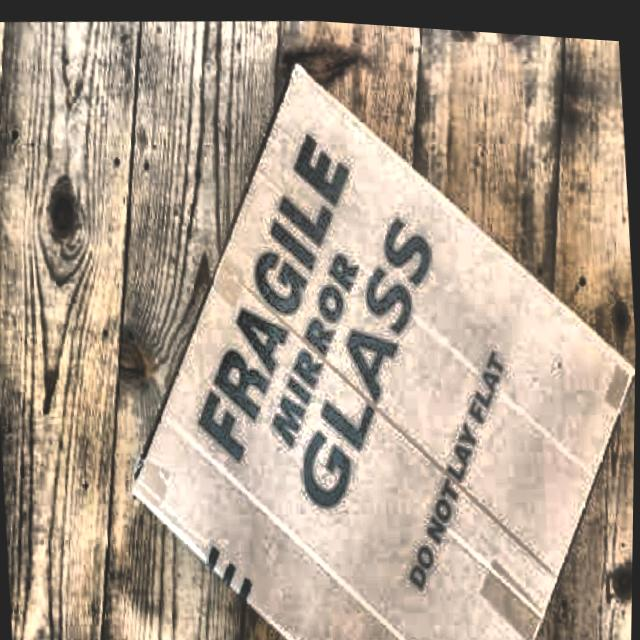Cardbox: (92, 29, 640, 640)
